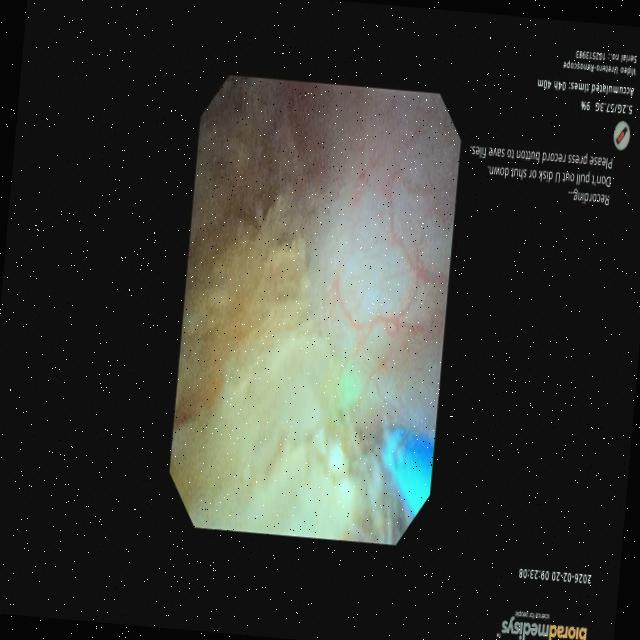laser_dot: (338, 366, 361, 407)
stone-new: (170, 132, 393, 540)
